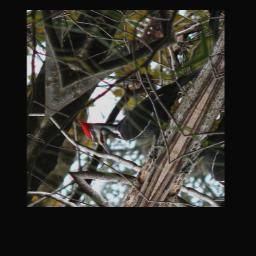Woodpecker: (69, 33, 208, 174)
